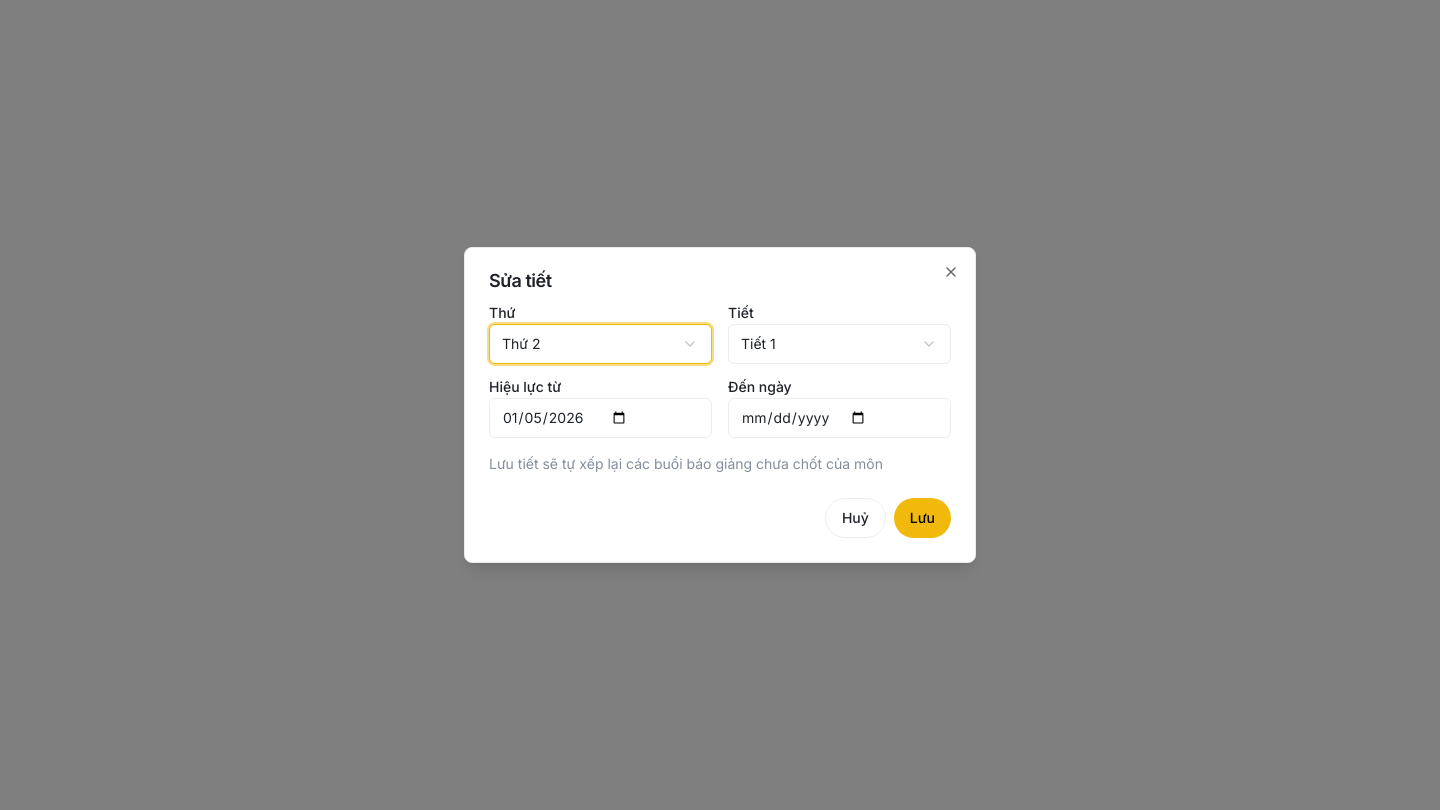
Test: lỗi từ backend › sửa tiết bị từ chối cũng hiện nguyên văn và giữ hộp thoại
The image size is (1440, 810).
Click the button "Lưu" at (922, 518), box [894, 498, 951, 538]
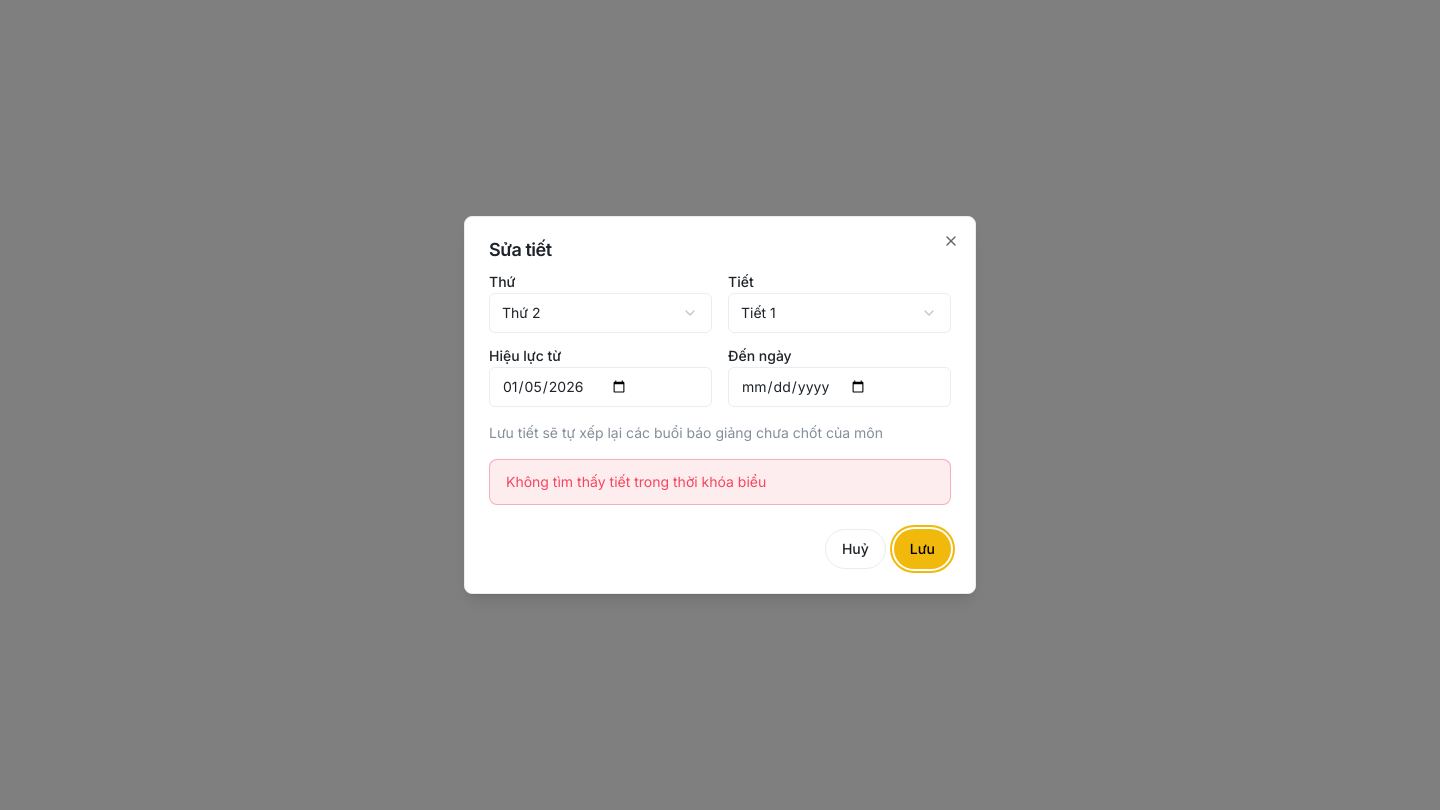
Expected: the message reads "Không tìm thấy tiết trong thời khóa biểu", [506, 473, 766, 490]
